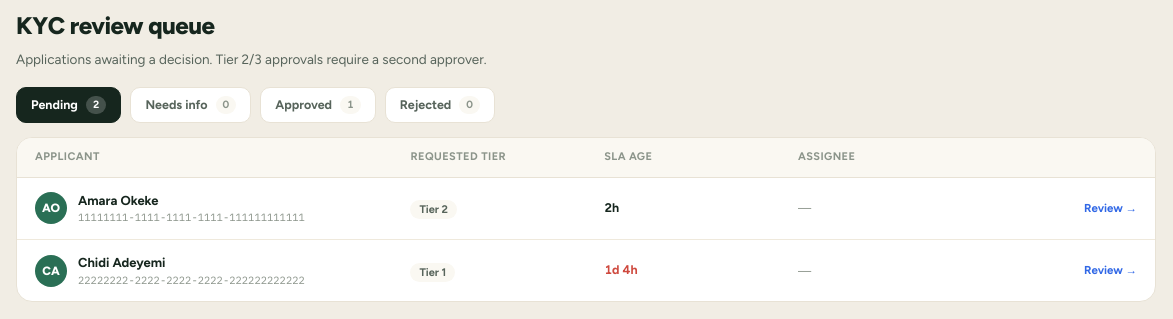
Test: KycReviewPage › switches to the Approved bucket's own rows on tab select
The width and height of the screenshot is (1173, 319).
Expected: the text "Amara Okeke" is shown, [78,193,158,208]
Click the tab "Approved 1" at (318, 105), box [260,87,376,123]
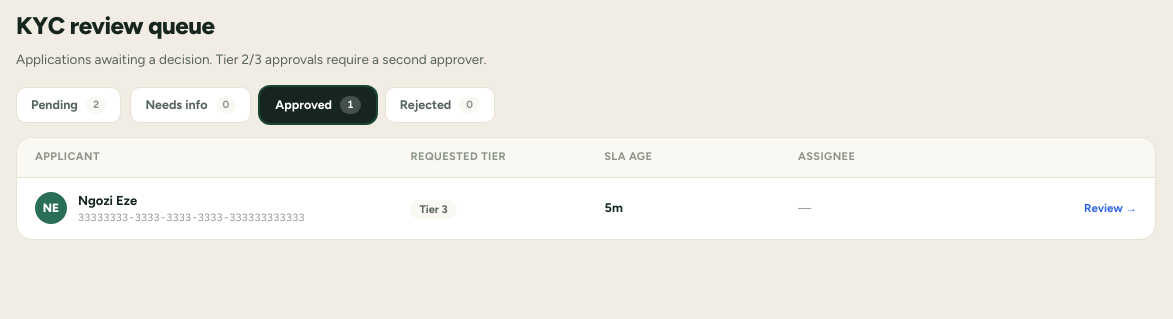
Result: the text "Ngozi Eze" is shown at [78,193,137,208]
Result: the button "Amara Okeke" is gone
